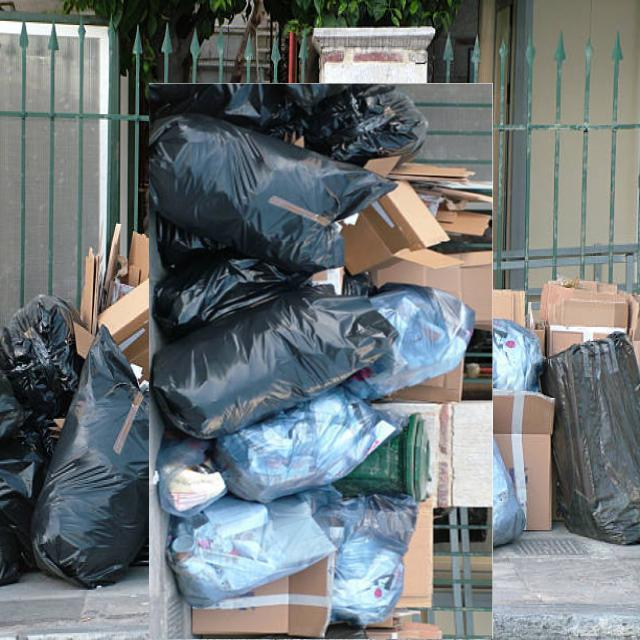Trashbag: (170, 291, 395, 431), (142, 120, 331, 255), (54, 323, 152, 578), (160, 241, 296, 327), (312, 87, 433, 171), (0, 390, 46, 577), (4, 287, 76, 402)
